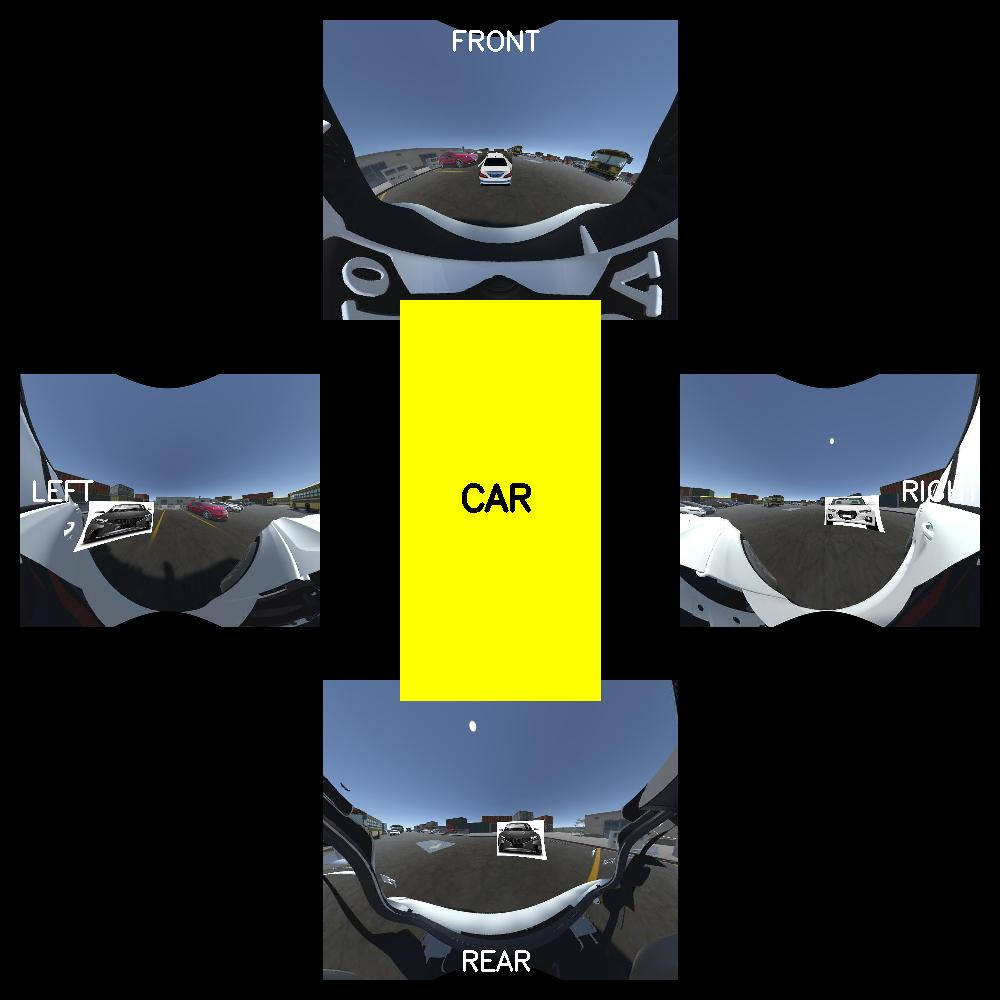Car: (78, 500, 153, 545), (823, 497, 884, 530), (496, 820, 545, 861), (479, 151, 514, 187)
